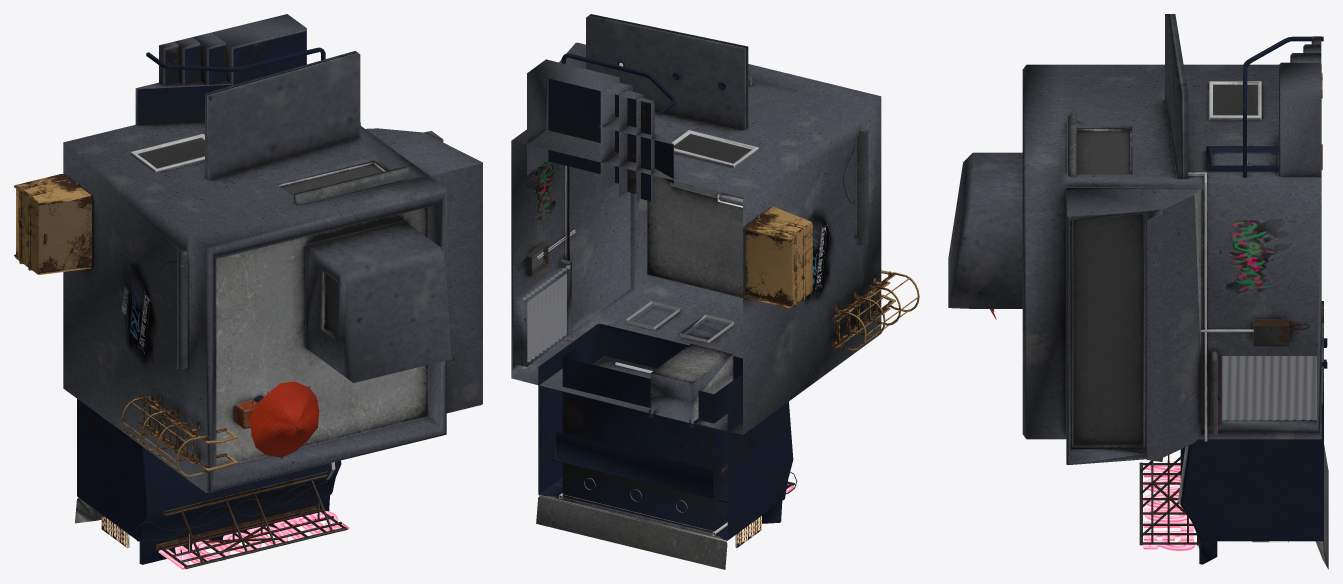
3 views of the same model, side by side, from view 1: azimuth 30°, elevation 25°; view 2: azimuth 150°, elevation 25°; view 3: azimuth 270°, elevation 25° (orthographic). The views are drawn at different scales.
Parts seen in each view (by area): view 1: noodle_hub, house_details; view 2: noodle_hub, house_details; view 3: noodle_hub, house_details.
Part boxes in pixels (x1,y1,x2,y2): noodle_hub: (63,14,482,564); house_details: (14,47,408,569); noodle_hub: (511,14,881,569); house_details: (522,53,919,547); noodle_hub: (948,14,1328,569); house_details: (990,36,1327,550).
Size of the model in its own units: 1.54 by 2 by 1.42.
2 materials, 2 textured.
